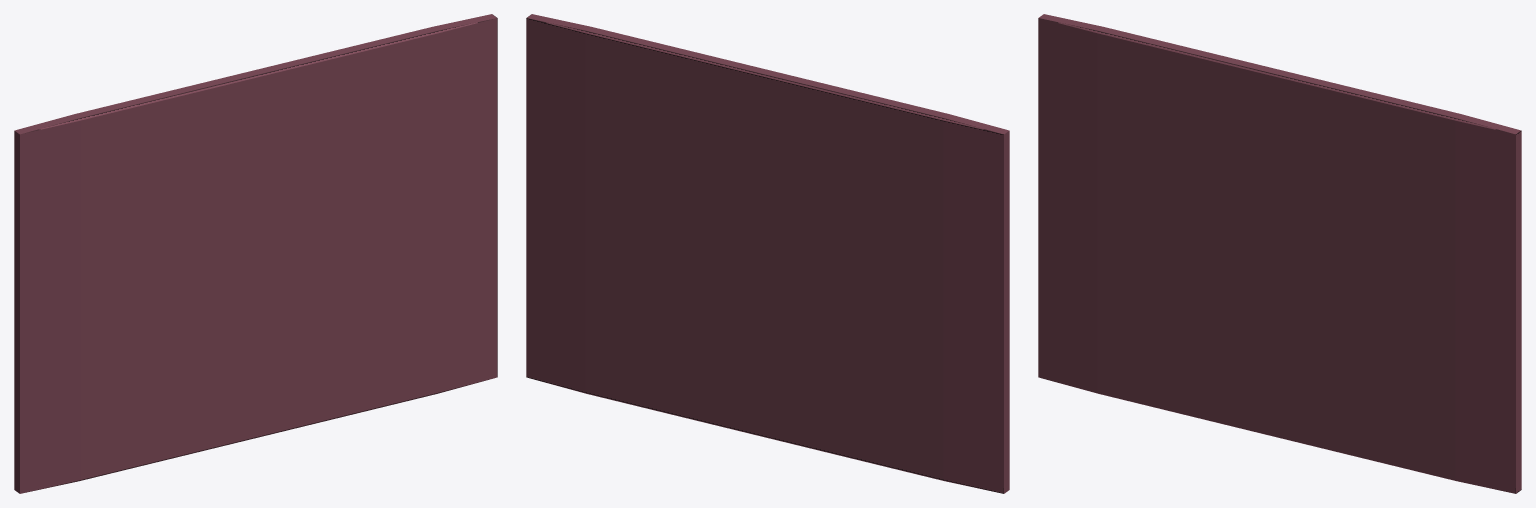
The model's file is PrototypeFloor.gltf.
3 renders of one model, left to right at view 1: azimuth 30°, elevation 25°; view 2: azimuth 150°, elevation 25°; view 3: azimuth 330°, elevation 25°, orthographic.
Visible parts, largest first — view 1: floor; view 2: floor; view 3: floor.
Part boxes in pixels (box(x1,y1,x2,y2)): floor: box(14, 14, 497, 493); floor: box(526, 14, 1009, 493); floor: box(1038, 14, 1521, 493).
Size of the model in its own units: 37.88 by 27.5 by 1.
1 material, 1 textured.
